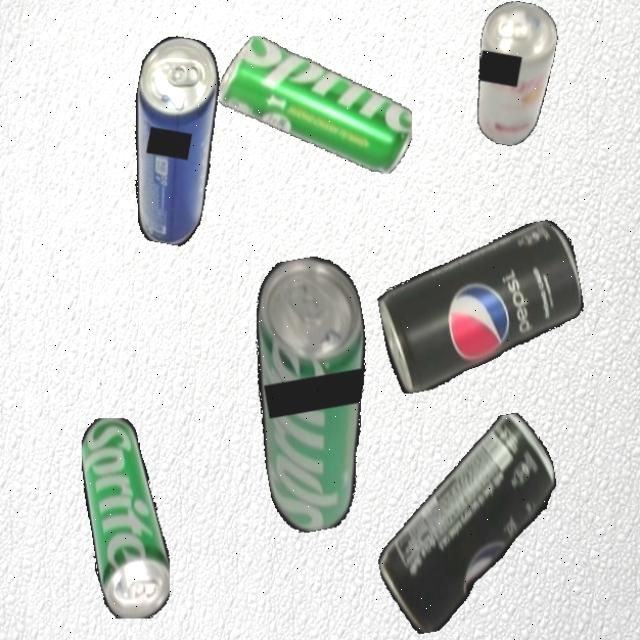debris: (358, 409, 578, 638), (232, 250, 398, 537), (370, 217, 593, 396), (218, 35, 412, 174), (113, 32, 231, 248), (80, 417, 170, 619), (464, 0, 562, 150)
